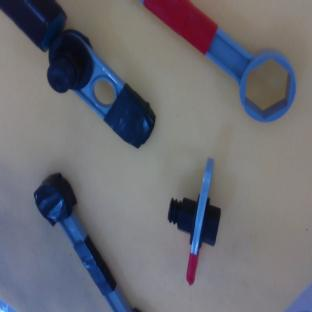part_1_bad: (28, 22, 166, 163), (92, 116, 95, 119)
part_1_good: (161, 158, 229, 287)
part_3_bad: (26, 169, 136, 312)
